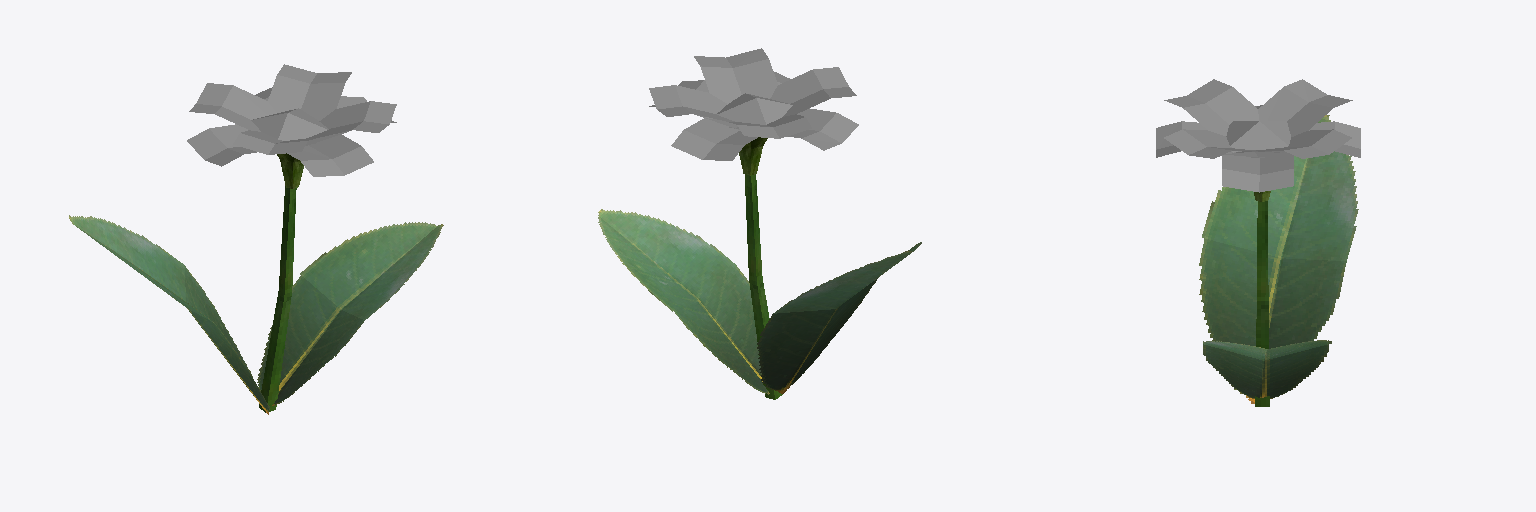
The picture shows the model from 3 angles: view 1: azimuth 30°, elevation 25°; view 2: azimuth 150°, elevation 25°; view 3: azimuth 270°, elevation 25°; orthographic projection.
Parts seen in each view (by area): view 1: redflower01; view 2: redflower01; view 3: redflower01.
Part boxes in pixels (bbox=[...]): redflower01: bbox=[69, 64, 443, 414]; redflower01: bbox=[598, 48, 921, 399]; redflower01: bbox=[1156, 79, 1360, 406].
Size of the model in its own units: 25.8 by 20.24 by 15.2.
Materials: 2 (1 with a texture image).